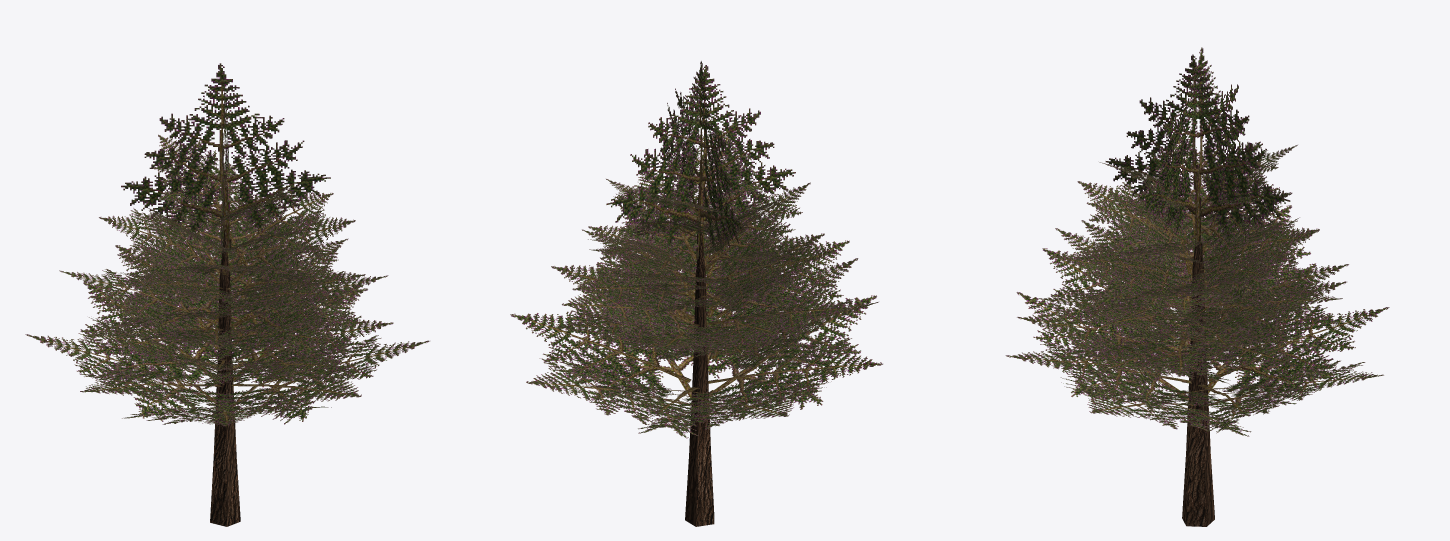
Rendered from mm9_deco_tree05.glb.
The picture shows the model from 3 angles, left to right: view 1: azimuth 30°, elevation 25°; view 2: azimuth 150°, elevation 25°; view 3: azimuth 270°, elevation 25°; orthographic projection. The views are drawn at different scales.
Visible parts, largest first — view 1: Tree05; view 2: Tree05; view 3: Tree05.
Part boxes in pixels (x1,y1,x2,y2): Tree05: [25, 63, 429, 526]; Tree05: [510, 61, 882, 526]; Tree05: [1005, 47, 1389, 526].
Size of the model in its own units: 14.07 by 15.59 by 14.09.
Materials: 2 (2 with a texture image).
